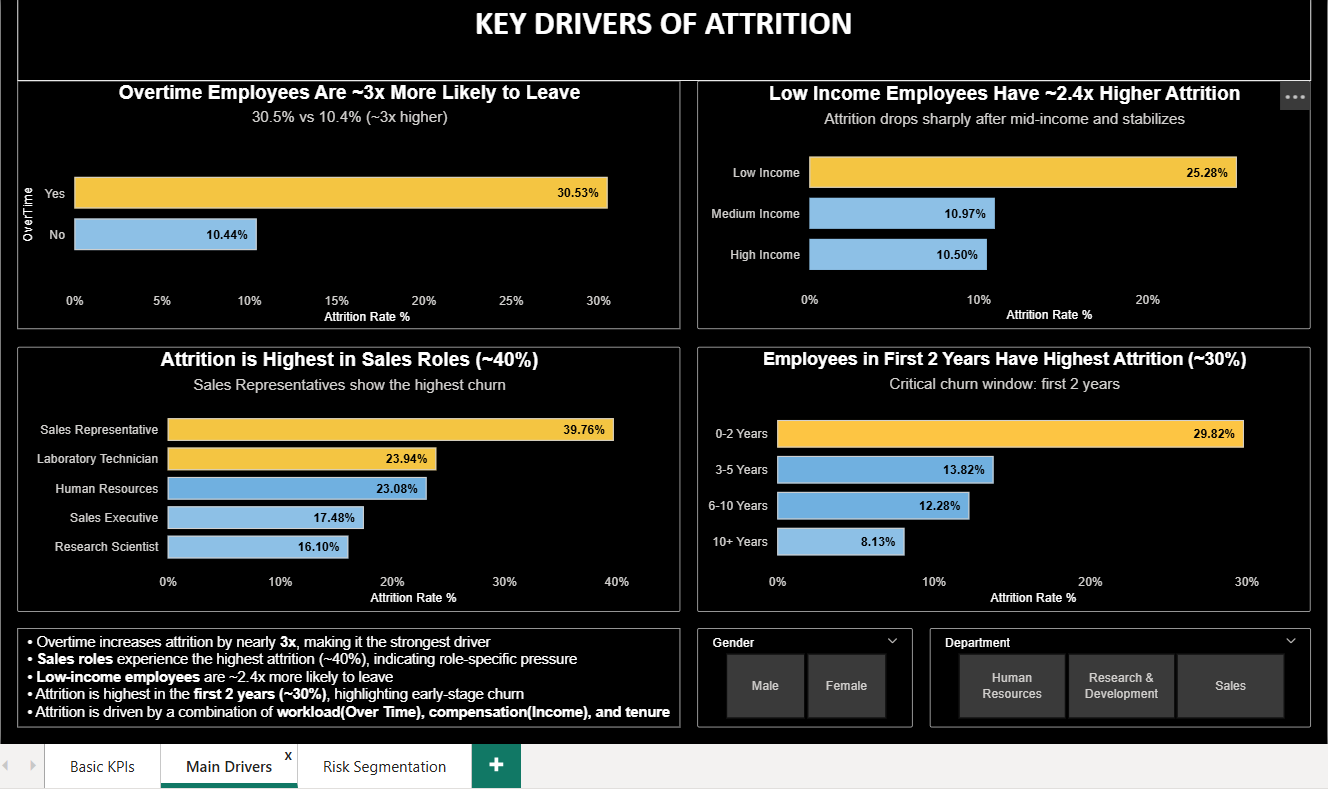

This screenshot's page, from the dashboard's own definition file:
{"tool":"powerbi","page":{"name":"Main Drivers","canvas":[1280,720],"ordinal":1},"visuals":[{"type":"clusteredBarChart","title":"Overtime Employees Are ~3x More Likely to Leave","fields":{"Y":["HR-Employee-Attrition.Attrition Rate %"],"Category":["HR-Employee-Attrition.OverTime"]},"box":[16,80,640,240],"z":0},{"type":"barChart","title":"Attrition is Highest in Sales Roles (~40%)","fields":{"Category":["HR-Employee-Attrition.JobRole"],"Y":["HR-Employee-Attrition.Attrition Rate %"]},"box":[16,336,640,256],"z":1000},{"type":"clusteredBarChart","title":"Low Income Employees Have ~2.4x Higher Attrition","fields":{"Category":["HR-Employee-Attrition.Income Segment"],"Y":["HR-Employee-Attrition.Attrition Rate %"]},"box":[672,80,592,240],"z":2000},{"type":"clusteredBarChart","title":"Employees in First 2 Years Have Highest Attrition (~30%)","fields":{"Category":["HR-Employee-Attrition.Tenure Segment"],"Y":["HR-Employee-Attrition.Attrition Rate %"]},"box":[672,336,592,256],"z":3000},{"type":"textbox","box":[16,608,640,96],"z":4000},{"type":"slicer","fields":{"Values":["HR-Employee-Attrition.Gender"]},"box":[672,608,208,96],"z":5000},{"type":"slicer","fields":{"Values":["HR-Employee-Attrition.Department"]},"box":[896,608,368,96],"z":6000},{"type":"textbox","box":[16,0,1248,80],"z":7000}]}

Visuals, with their boxes on the page's 1280x720 design canvas (x1, y1, x2, y2). These are canvas units, not pixel positions in the 1328x789 screenshot, which may show the page scaled, cropped or inside an application window:
"Overtime Employees Are ~3x More Likely to Leave" clusteredBarChart: region(16, 80, 656, 320)
"Attrition is Highest in Sales Roles (~40%)" barChart: region(16, 336, 656, 592)
"Low Income Employees Have ~2.4x Higher Attrition" clusteredBarChart: region(672, 80, 1264, 320)
"Employees in First 2 Years Have Highest Attrition (~30%)" clusteredBarChart: region(672, 336, 1264, 592)
textbox: region(16, 608, 656, 704)
slicer - HR-Employee-Attrition.Gender: region(672, 608, 880, 704)
slicer - HR-Employee-Attrition.Department: region(896, 608, 1264, 704)
textbox: region(16, 0, 1264, 80)
